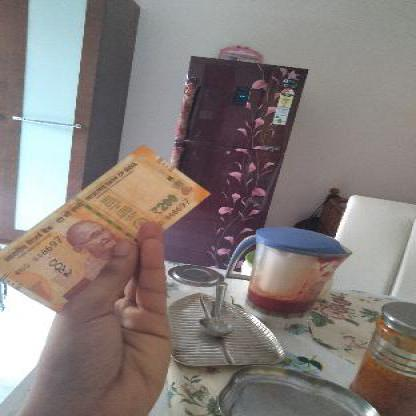New200Front: (8, 140, 205, 313)
